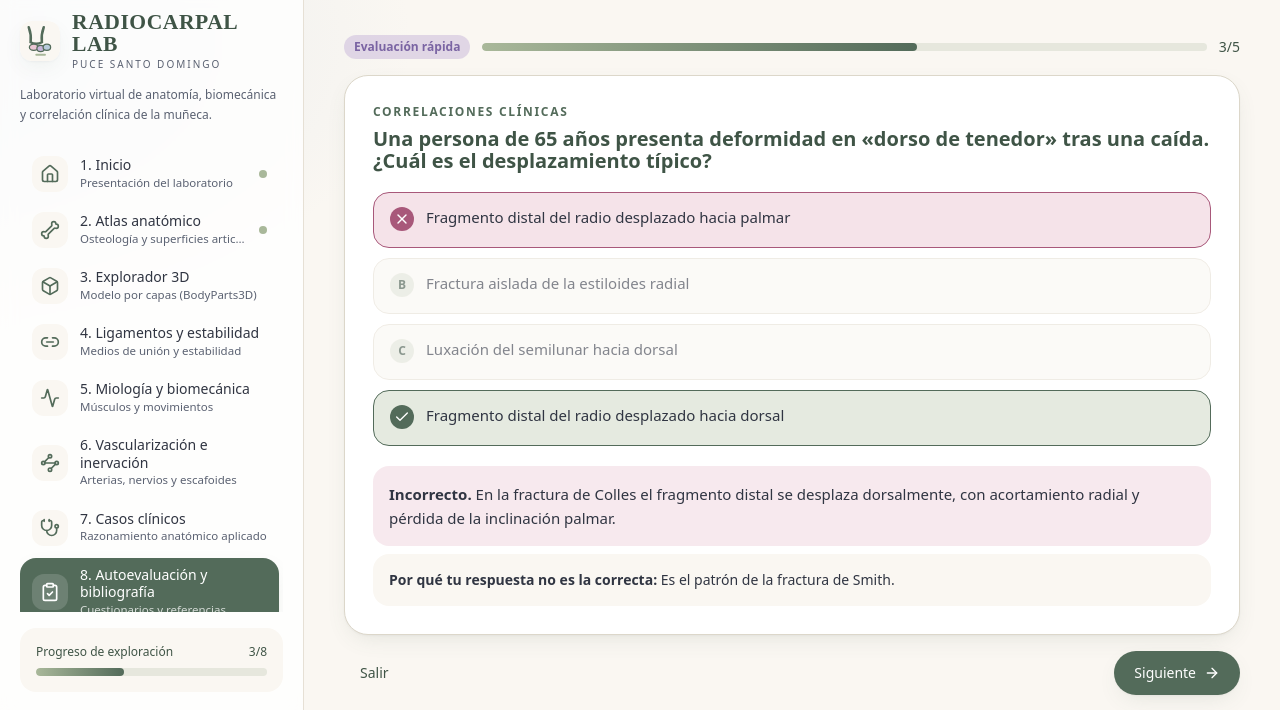
Scenario: navegación y módulos › quiz rápido: responder todo y ver resultado
The image size is (1280, 710).
Earlier steps of the test are not shown.
(page scrolled)
Expected: the element with test id "quiz-feedback" is shown, [373,466,1211,606]
Click the button "Siguiente" at (1177, 673), box [1114,651,1240,695]
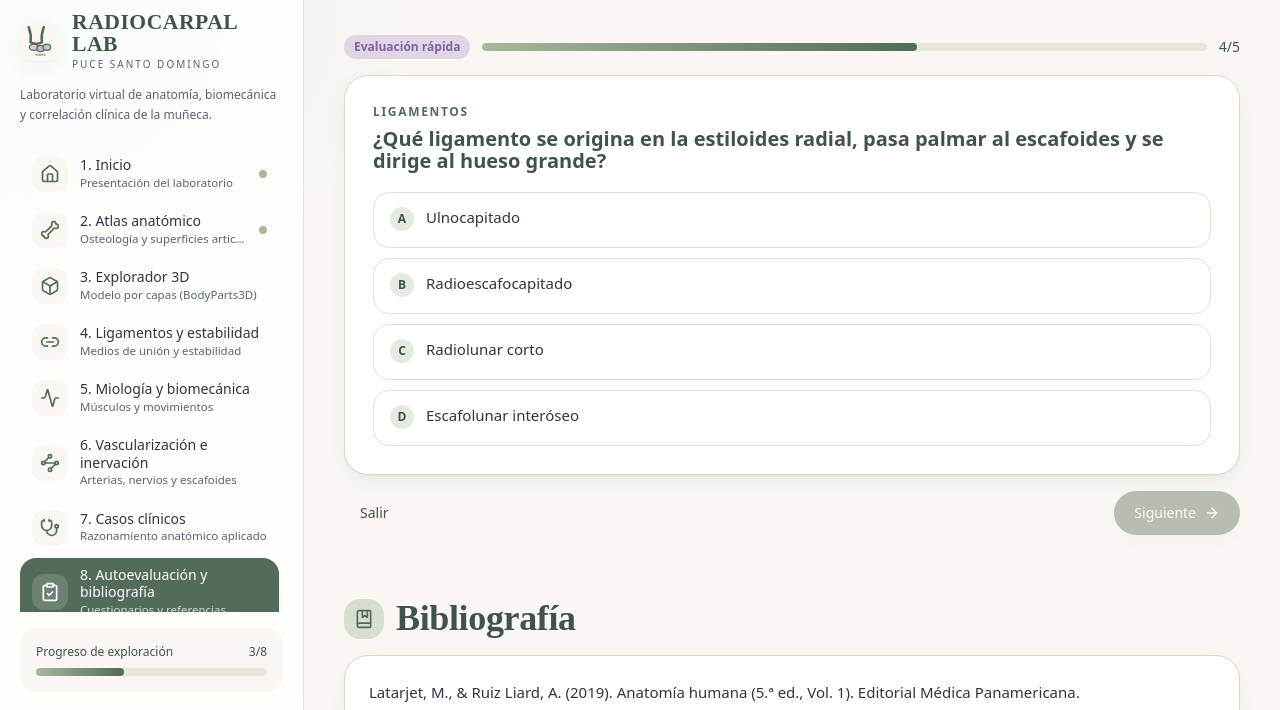
Expected: the radio button labelled "A Ulnocapitado" is enabled
Click the radio button labelled "A Ulnocapitado" at (473, 217), box [373,192,1211,248]
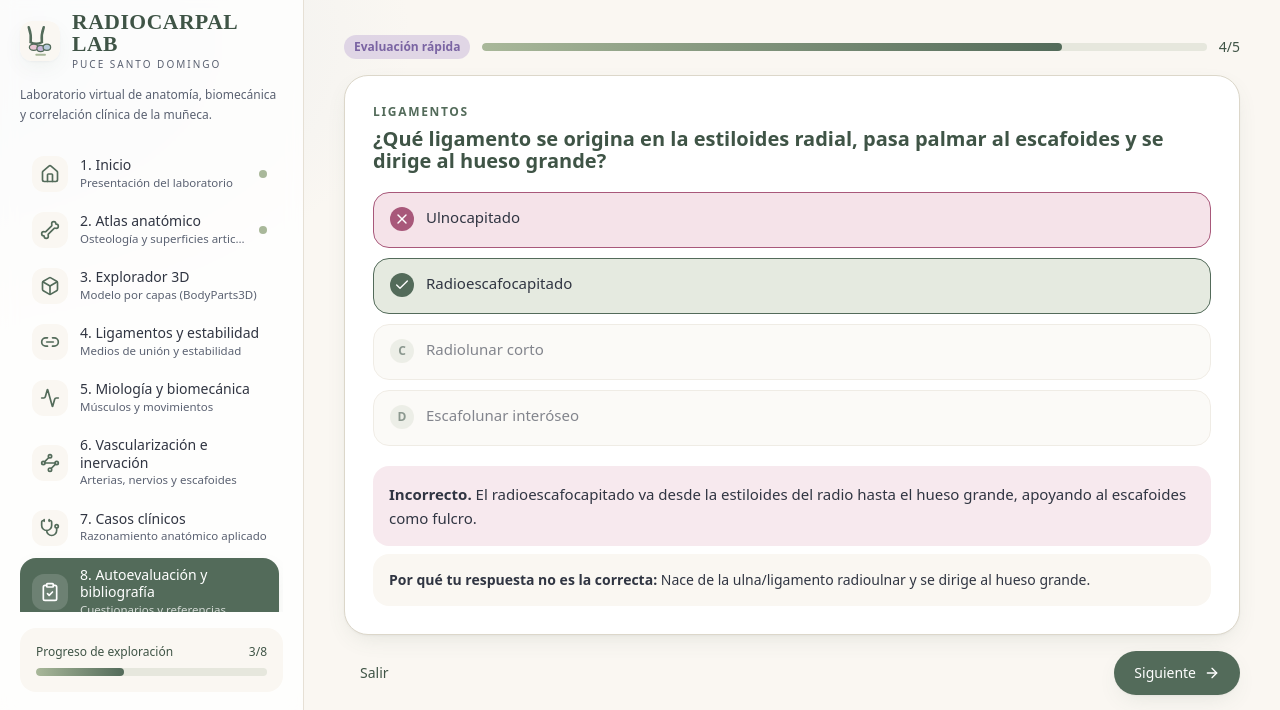
Expected: the element with test id "quiz-feedback" is shown, [373,466,1211,606]
Click the button "Siguiente" at (1177, 673), box [1114,651,1240,695]
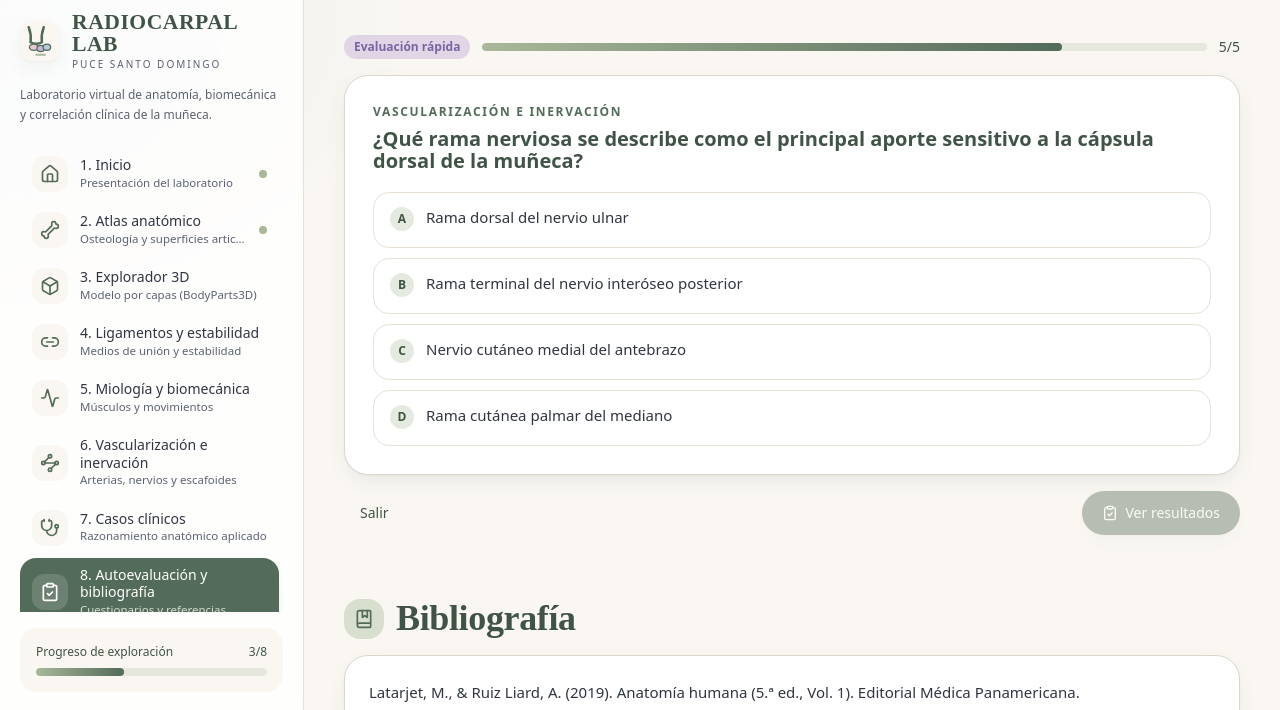
Expected: the radio button labelled "A Rama dorsal del nervio ulnar" is enabled
Click the radio button labelled "A Rama dorsal del nervio ulnar" at (527, 217), box [373,192,1211,248]
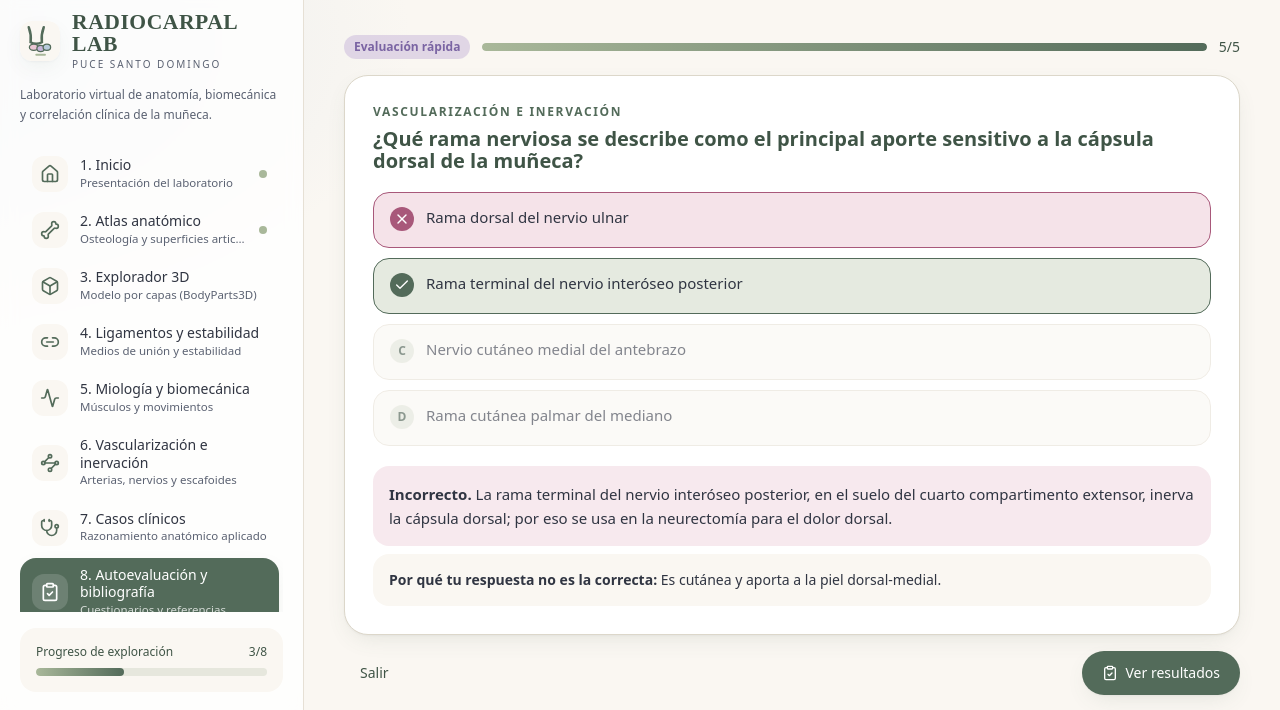
Expected: the element with test id "quiz-feedback" is shown, [373,466,1211,606]
Click the button "Ver resultados" at (1161, 673), box [1082,651,1240,695]
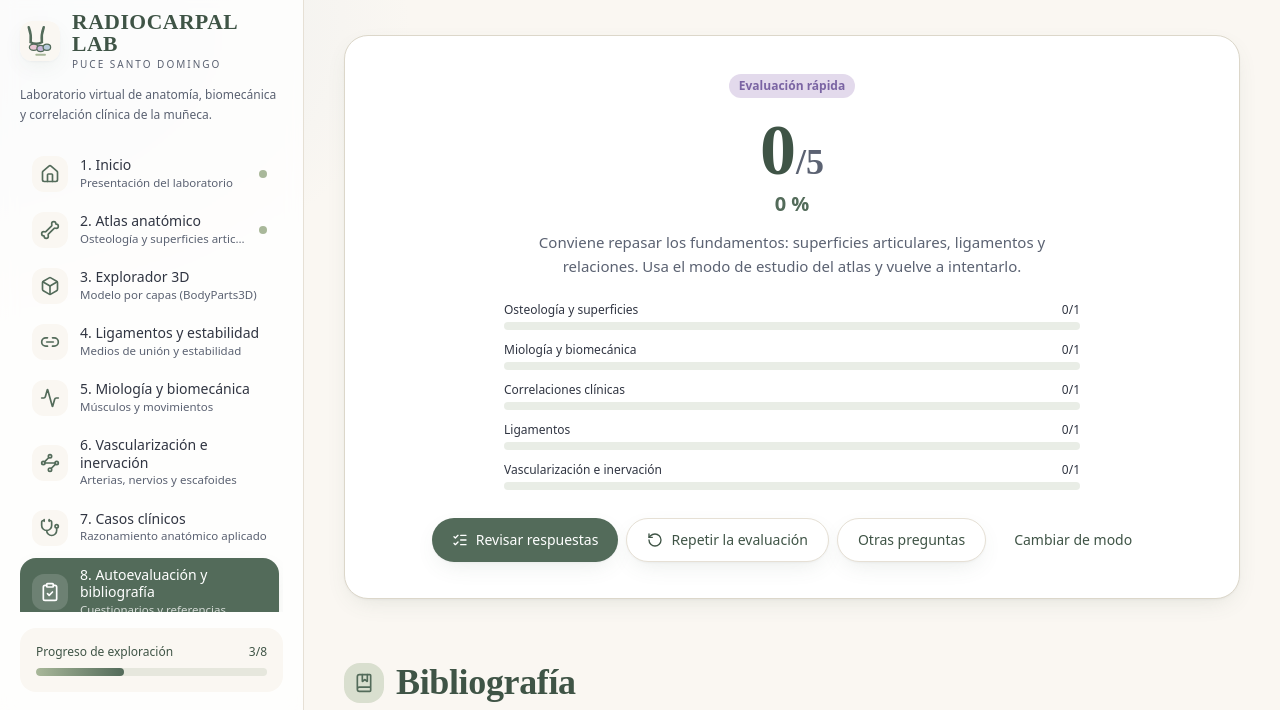
Expected: the element with test id "quiz-result" is shown, [344,35,1240,599]
Expected: the element with test id "quiz-score" shows "/5", [760,110,824,190]
Click the button "Repetir la evaluación" at (728, 540), box [626,518,829,562]
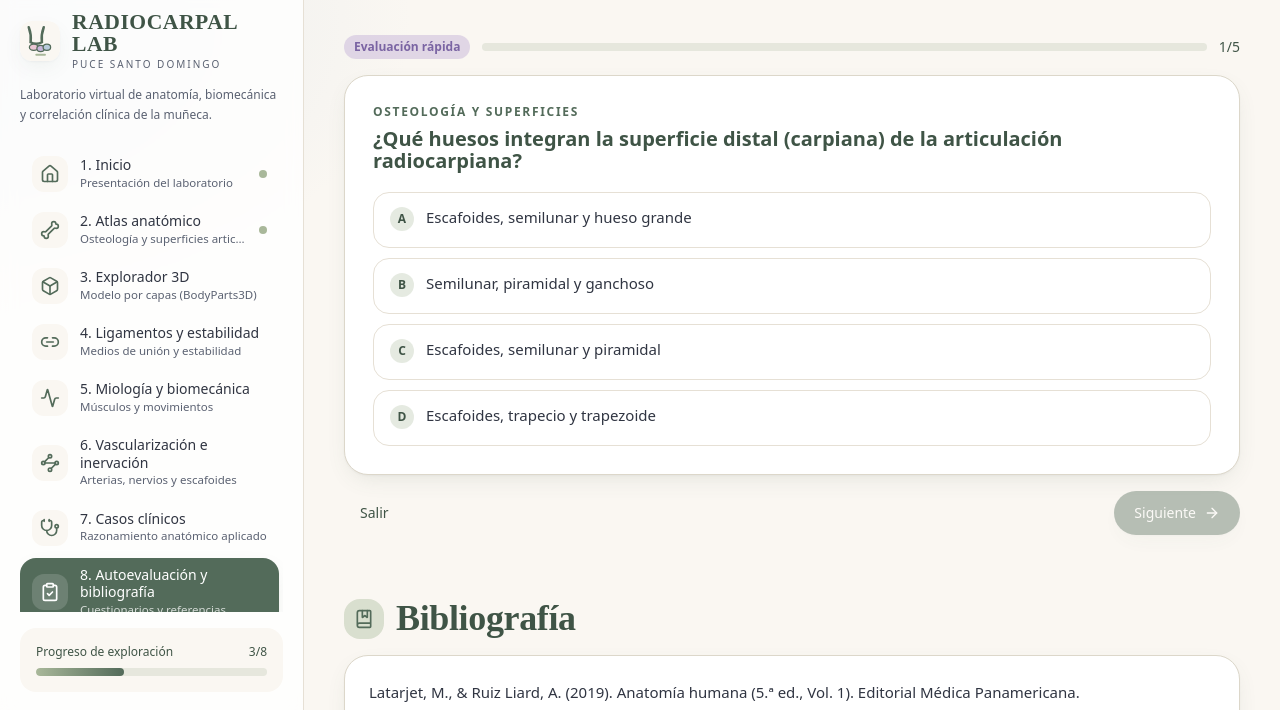
Expected: the text with test id "quiz-progress" reads "1/5", [1219,37,1240,57]
